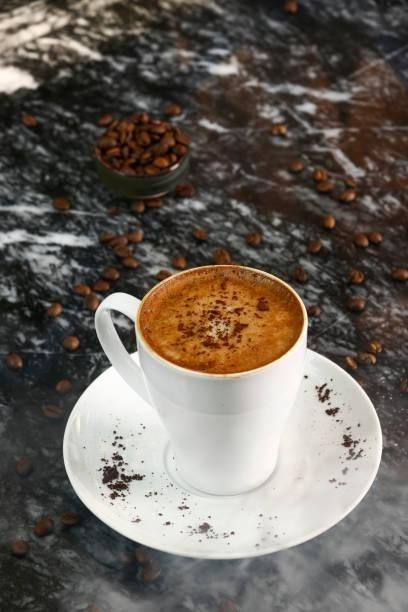cup-handle: (94, 262, 309, 497)
